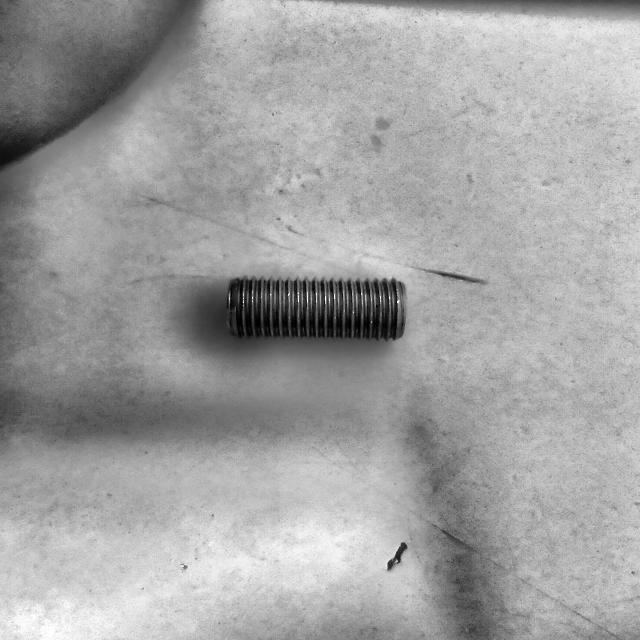Normal: (225, 276, 408, 343)
